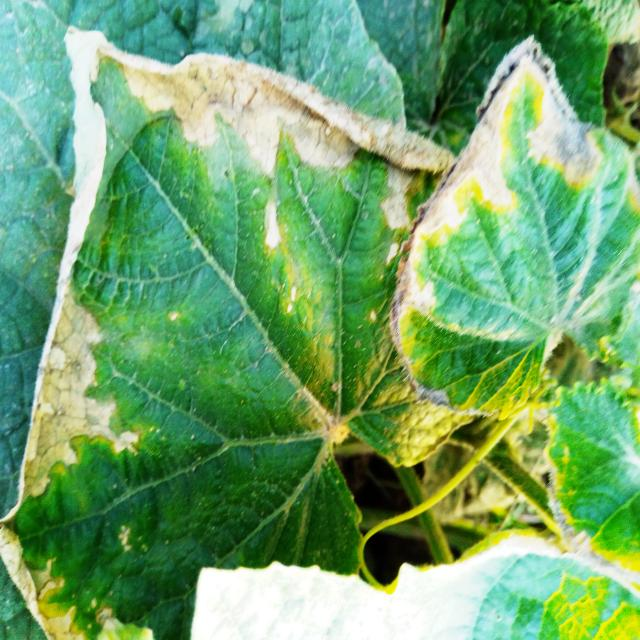Gummy-Stem-Blight: (0, 24, 456, 639), (392, 33, 610, 415)
